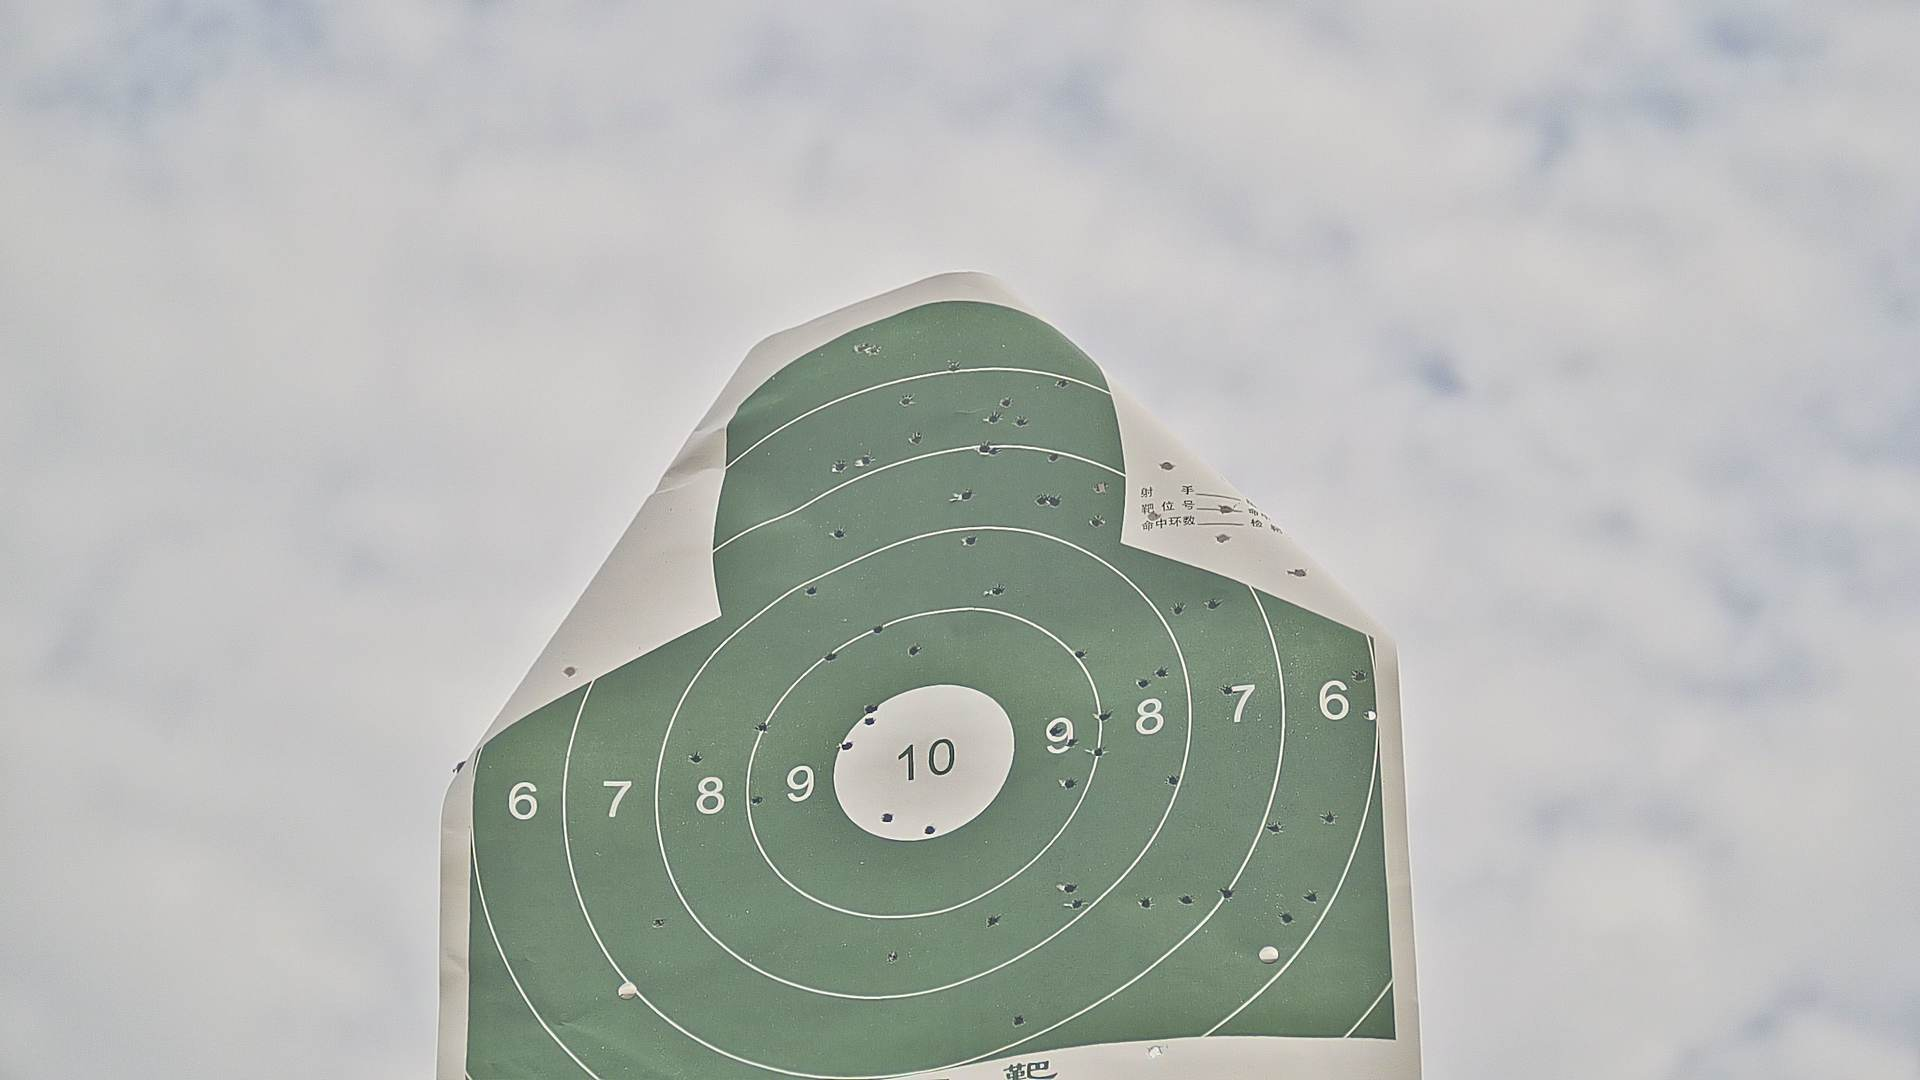hole: (1286, 566, 1309, 582), (1222, 884, 1234, 903), (963, 534, 978, 549), (1160, 459, 1176, 473), (562, 666, 579, 679), (1216, 505, 1240, 514), (1139, 894, 1154, 909), (833, 527, 849, 541), (1166, 773, 1179, 789), (1147, 1044, 1163, 1058), (1069, 898, 1085, 911), (862, 702, 878, 715), (1146, 510, 1162, 524), (804, 583, 818, 597), (1218, 682, 1233, 695), (1010, 1013, 1025, 1026), (1095, 479, 1106, 495), (1305, 889, 1317, 905), (1062, 882, 1077, 894), (691, 749, 703, 765), (1215, 533, 1232, 543), (992, 584, 1005, 597), (1062, 777, 1075, 790), (1098, 709, 1112, 723), (1155, 666, 1167, 680), (1180, 895, 1195, 907), (899, 396, 913, 407), (1269, 822, 1280, 835), (882, 812, 894, 825), (1174, 601, 1183, 617), (833, 462, 845, 473), (1091, 516, 1102, 527), (909, 644, 920, 655), (988, 914, 1000, 926), (926, 824, 938, 836), (823, 650, 835, 662), (947, 363, 957, 376), (1324, 811, 1335, 824), (1280, 914, 1294, 924), (887, 948, 898, 961), (753, 795, 766, 806), (653, 919, 666, 930), (986, 413, 997, 425), (977, 443, 988, 455), (959, 491, 971, 501), (1137, 678, 1149, 688), (1365, 709, 1377, 720), (1065, 737, 1077, 748), (865, 715, 876, 727), (910, 434, 923, 443), (1356, 669, 1365, 682), (1092, 746, 1105, 756), (1055, 378, 1065, 389), (870, 345, 881, 356), (1208, 597, 1218, 608), (1015, 415, 1027, 425), (1073, 647, 1083, 659), (1048, 723, 1058, 735), (853, 343, 866, 351), (1052, 493, 1060, 506), (874, 622, 882, 636), (1048, 452, 1059, 462), (1002, 396, 1010, 407), (990, 447, 1002, 455), (760, 721, 767, 733), (841, 740, 851, 749), (862, 455, 870, 465), (1036, 496, 1044, 506)
kernel: (916, 760, 922, 764)
target: (465, 301, 1396, 1080)
ten: (833, 684, 1013, 840)
